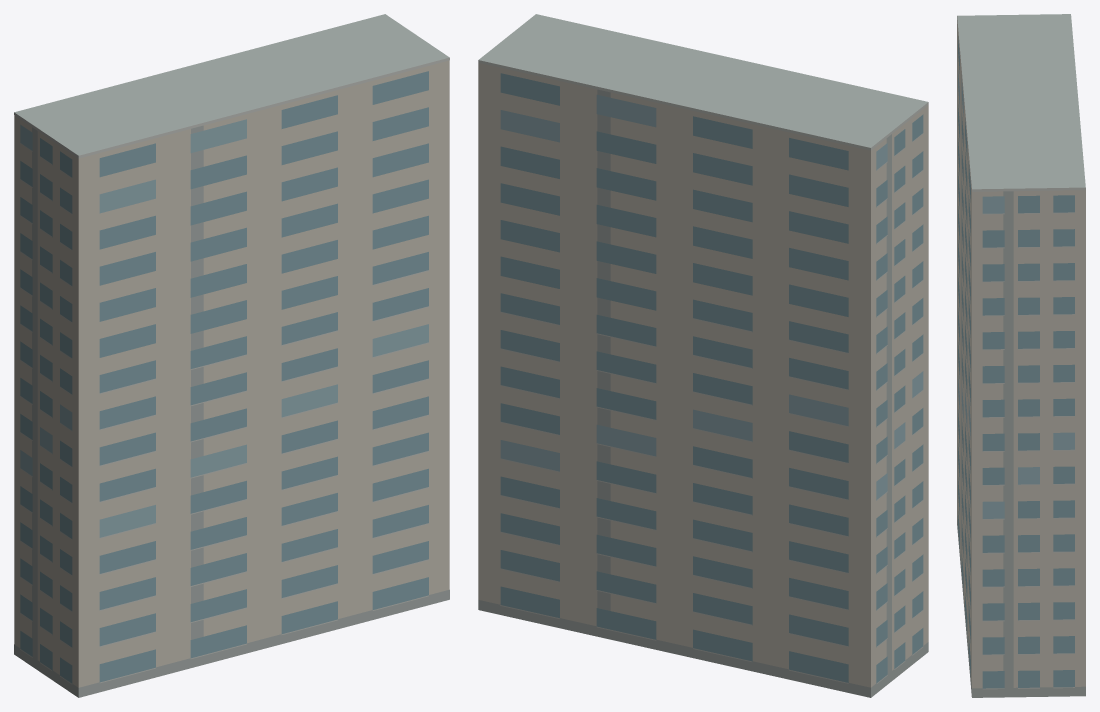
The model's file is residential-73b970cb-b40b-4323-97ef-0dd5be2226ff.glb.
3 renders of one model, left to right at view 1: azimuth 30°, elevation 25°; view 2: azimuth 150°, elevation 25°; view 3: azimuth 270°, elevation 25°, orthographic. The views are drawn at different scales.
Parts seen in each view (by area): view 1: residential-73b970cb-b40b-4323-97ef-0dd5be2226ff.tmp; view 2: residential-73b970cb-b40b-4323-97ef-0dd5be2226ff.tmp; view 3: residential-73b970cb-b40b-4323-97ef-0dd5be2226ff.tmp.
Part boxes in pixels (x1,y1,x2,y2): residential-73b970cb-b40b-4323-97ef-0dd5be2226ff.tmp: (14,14,449,697); residential-73b970cb-b40b-4323-97ef-0dd5be2226ff.tmp: (478,14,928,697); residential-73b970cb-b40b-4323-97ef-0dd5be2226ff.tmp: (957,14,1085,697).
Bounding box in the file's own units: 35.48 × 48 × 11.02.
